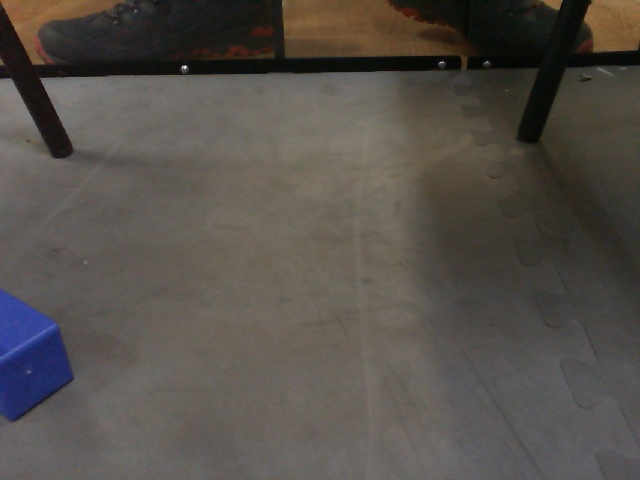BlueSample: (1, 283, 78, 424)
